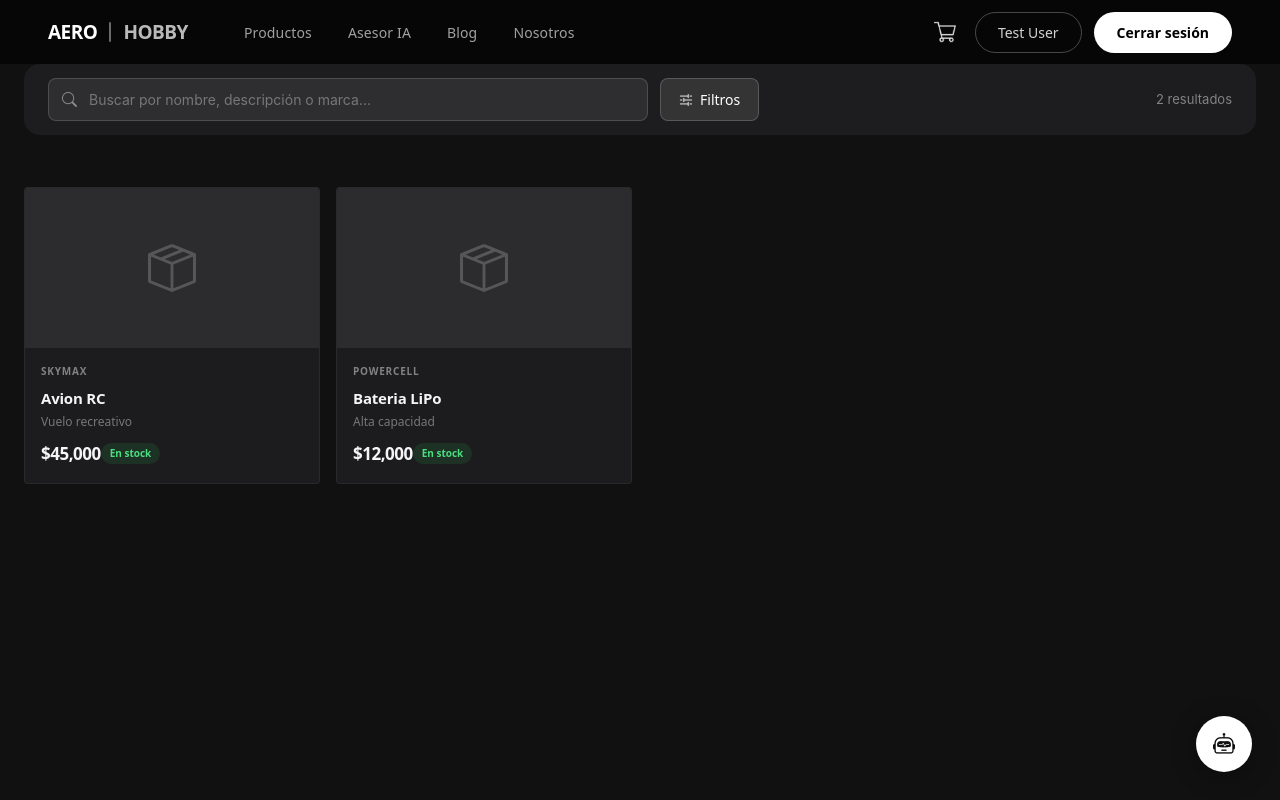
Reseñas en detalle de producto › muestra las reseñas del producto al abrirlo
The width and height of the screenshot is (1280, 800).
Click the button "SkyMax Avion RC Vuelo recreativo $45,000 En stock" at (172, 336), box [24,187,320,484]
(page scrolled)
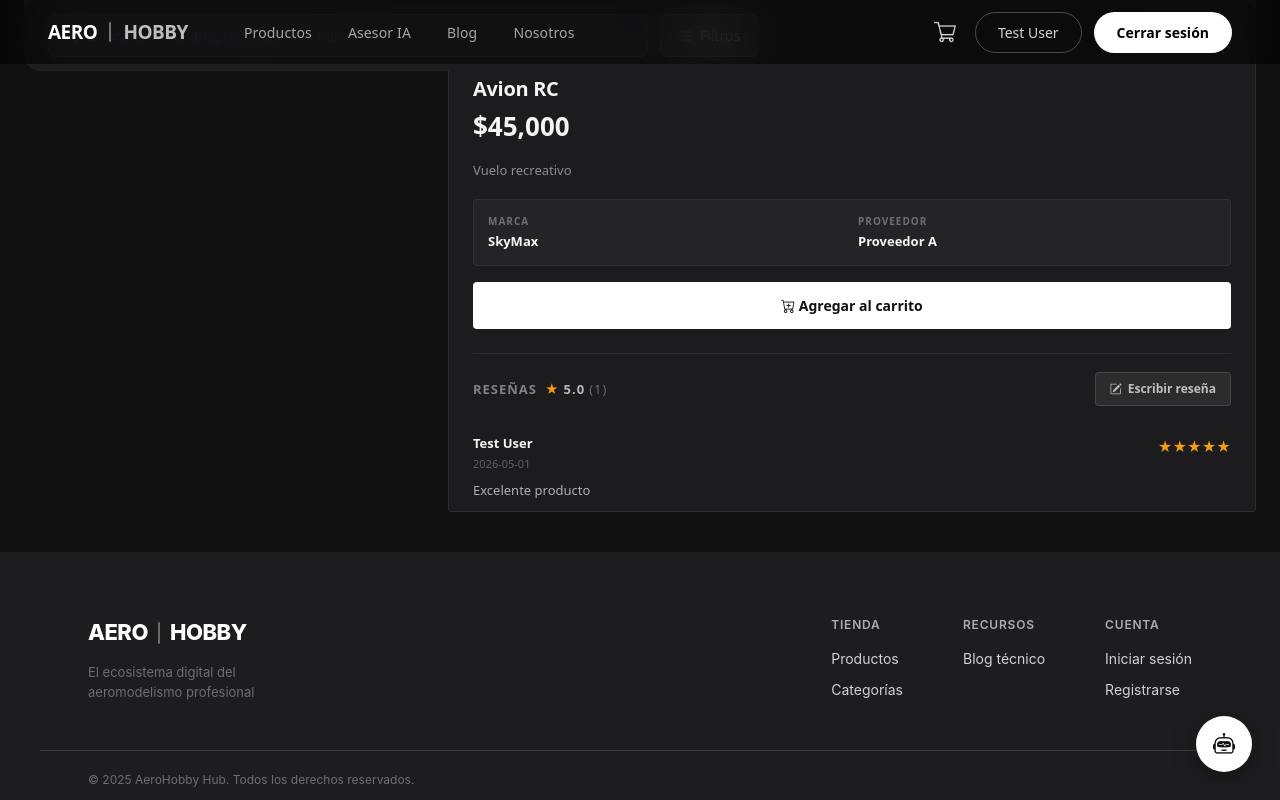
Expected: the element that starts with "Reseñas" is shown, [473,353,1231,515]
Expected: the text "Excelente producto" is shown, [473,481,590,499]
